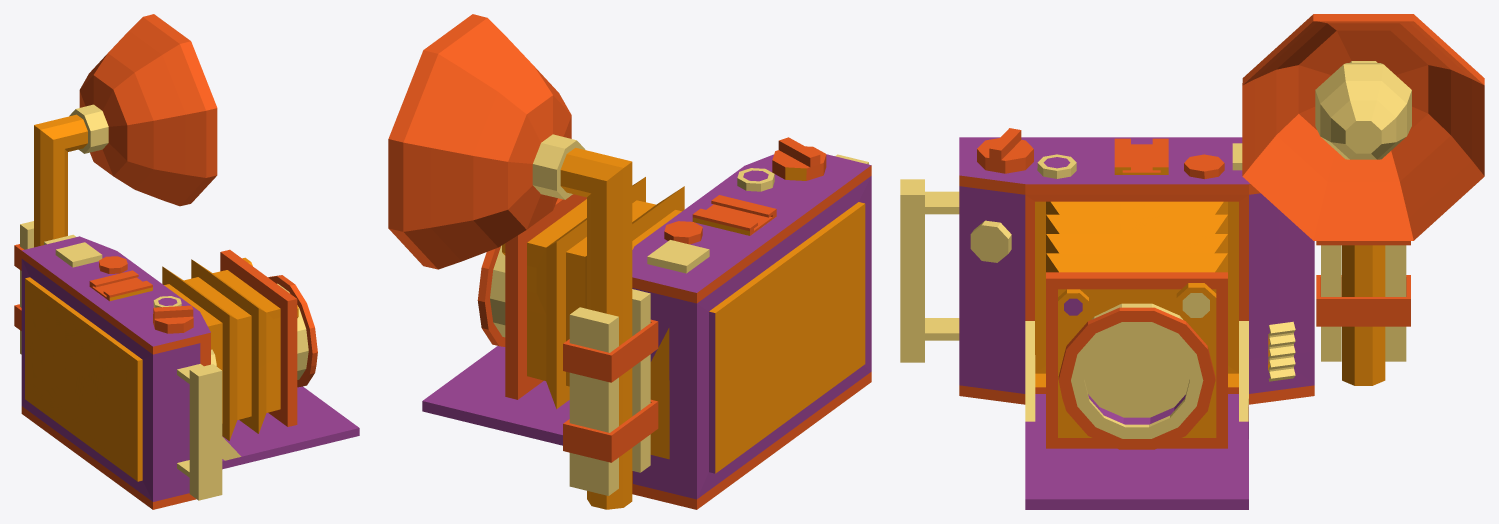
The model's file is TraditionalMedia.glb.
3 views of the same model, side by side, from view 1: azimuth 30°, elevation 25°; view 2: azimuth 150°, elevation 25°; view 3: azimuth 270°, elevation 25° (orthographic). The views are drawn at different scales.
Parts seen in each view (by area): view 1: Camera_0, Flash_1; view 2: Camera_0, Flash_1; view 3: Camera_0, Flash_1.
Boxes of the visible parts, box(x1,y1,x2,y2) form: Camera_0: box(21, 236, 359, 509); Flash_1: box(14, 14, 217, 354); Camera_0: box(422, 137, 871, 509); Flash_1: box(388, 14, 658, 509); Camera_0: box(900, 128, 1314, 509); Flash_1: box(1242, 14, 1484, 385).
Bounding box in the file's own units: 5.01 × 6.72 × 7.95.
